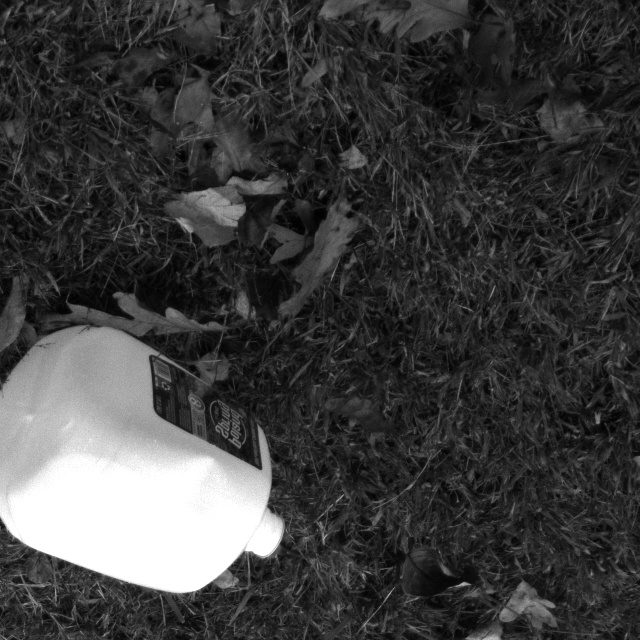can: (0, 303, 293, 597)
